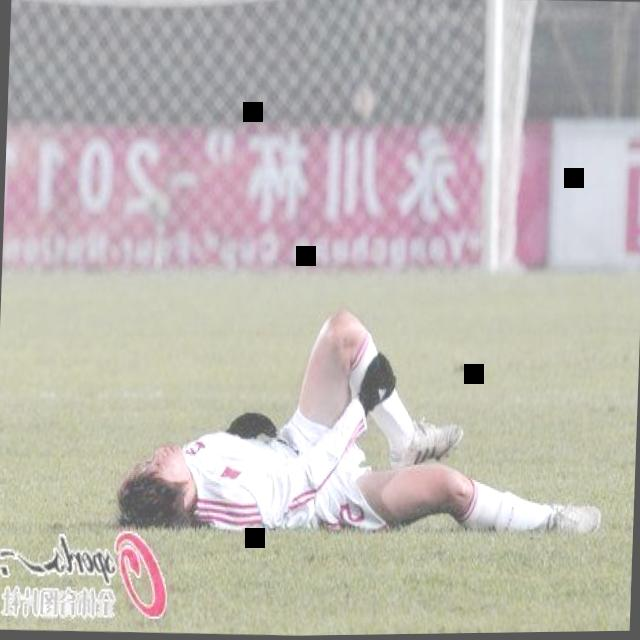Fall-Detected: (98, 269, 618, 562)
